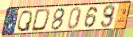0: (66, 7, 83, 31)
6: (84, 6, 99, 29)
8: (51, 7, 66, 32)
9: (99, 4, 116, 30)
D: (30, 8, 52, 32)
Q: (16, 9, 34, 33)
